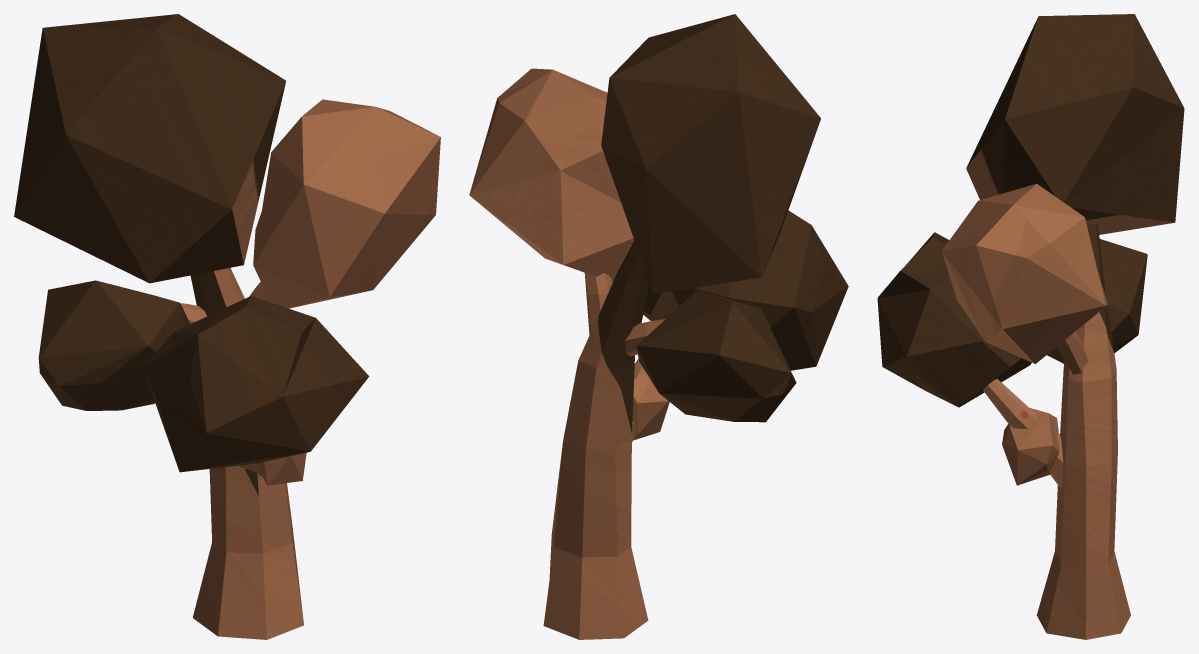
Rendered from SM_Birch_05.fbx.
3 renders of one model, left to right at view 1: azimuth 30°, elevation 25°; view 2: azimuth 150°, elevation 25°; view 3: azimuth 270°, elevation 25°, orthographic. The views are drawn at different scales.
Visible parts, largest first — view 1: polySurface107; view 2: polySurface107; view 3: polySurface107.
Part boxes in pixels (box(x1,y1,x2,y2)): polySurface107: box(14, 14, 440, 639); polySurface107: box(469, 14, 848, 639); polySurface107: box(877, 14, 1184, 639).
Size of the model in its own units: 2.47 by 4.32 by 2.17.
